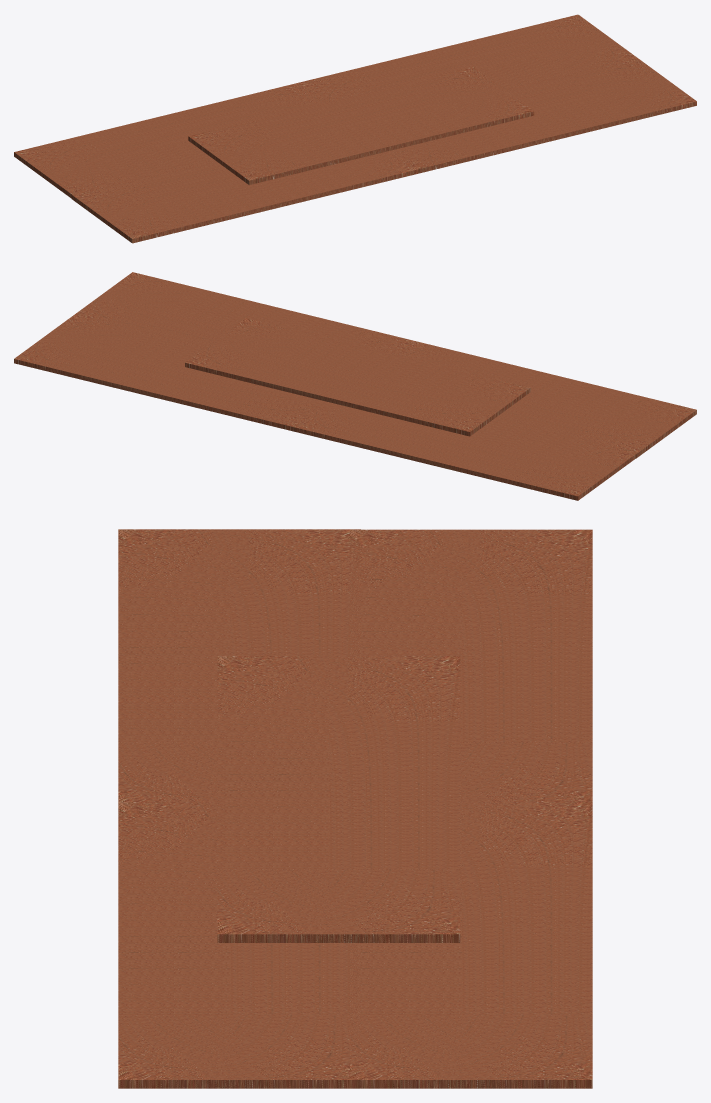
File: evilCoreBase.glb
3 renders of one model, top to bottom at view 1: azimuth 30°, elevation 25°; view 2: azimuth 150°, elevation 25°; view 3: azimuth 270°, elevation 25°, orthographic. The views are drawn at different scales.
Parts seen in each view (by area): view 1: Floor, Floor.004, Floor.003, Floor.001, Floor.002; view 2: Floor, Floor.001, Floor.002, Floor.004, Floor.003; view 3: Floor, Floor.002, Floor.001, Floor.003, Floor.004.
Boxes of the visible parts, x1,y1,x2,y2 form: Floor: [188, 67, 534, 184]; Floor.004: [71, 151, 417, 243]; Floor.003: [386, 57, 696, 174]; Floor.001: [14, 82, 325, 198]; Floor.002: [295, 14, 638, 102]; Floor: [185, 318, 530, 436]; Floor.001: [293, 403, 638, 500]; Floor.002: [14, 314, 332, 432]; Floor.004: [395, 340, 696, 458]; Floor.003: [72, 272, 416, 355]; Floor: [217, 656, 460, 942]; Floor.002: [350, 802, 592, 1088]; Floor.001: [350, 529, 592, 807]; Floor.003: [118, 802, 360, 1088]; Floor.004: [118, 529, 360, 807].
Bounding box in the file's own units: 2640 × 44.85 × 961.
1 material, 1 textured.
